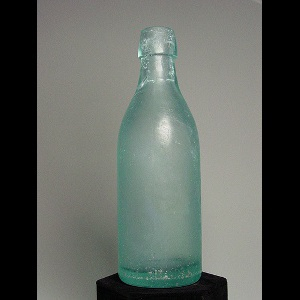emptybottle: (116, 26, 202, 289)
